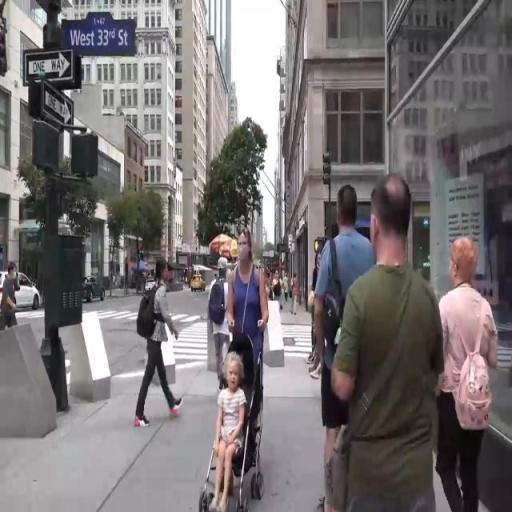person: (333, 171, 450, 512), (437, 236, 512, 512), (224, 212, 275, 474), (325, 176, 367, 428), (129, 250, 184, 425), (214, 353, 245, 482), (212, 254, 235, 363), (1, 259, 24, 334), (292, 273, 305, 321), (274, 269, 284, 311), (285, 272, 291, 303)
